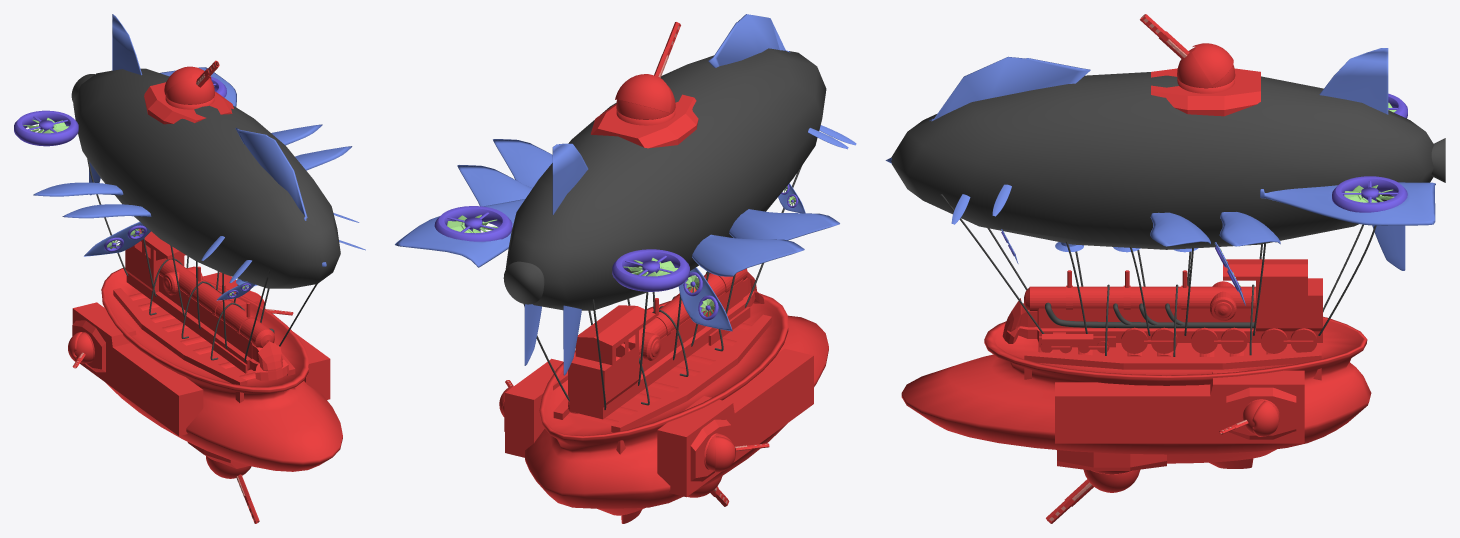
Rendered from airship.002.fbx.
3 views of the same model, side by side, from view 1: azimuth 30°, elevation 25°; view 2: azimuth 150°, elevation 25°; view 3: azimuth 270°, elevation 25° (orthographic). The views are drawn at different scales.
Parts seen in each view (by area): view 1: Airship.Ballloon.003; view 2: Airship.Ballloon.003; view 3: Airship.Ballloon.003.
Boxes of the visible parts, x1,y1,x2,y2 form: Airship.Ballloon.003: (14,14,365,523); Airship.Ballloon.003: (395,14,856,523); Airship.Ballloon.003: (885,14,1445,523).
Size of the model in its own units: 6046 by 8661 by 8622.
